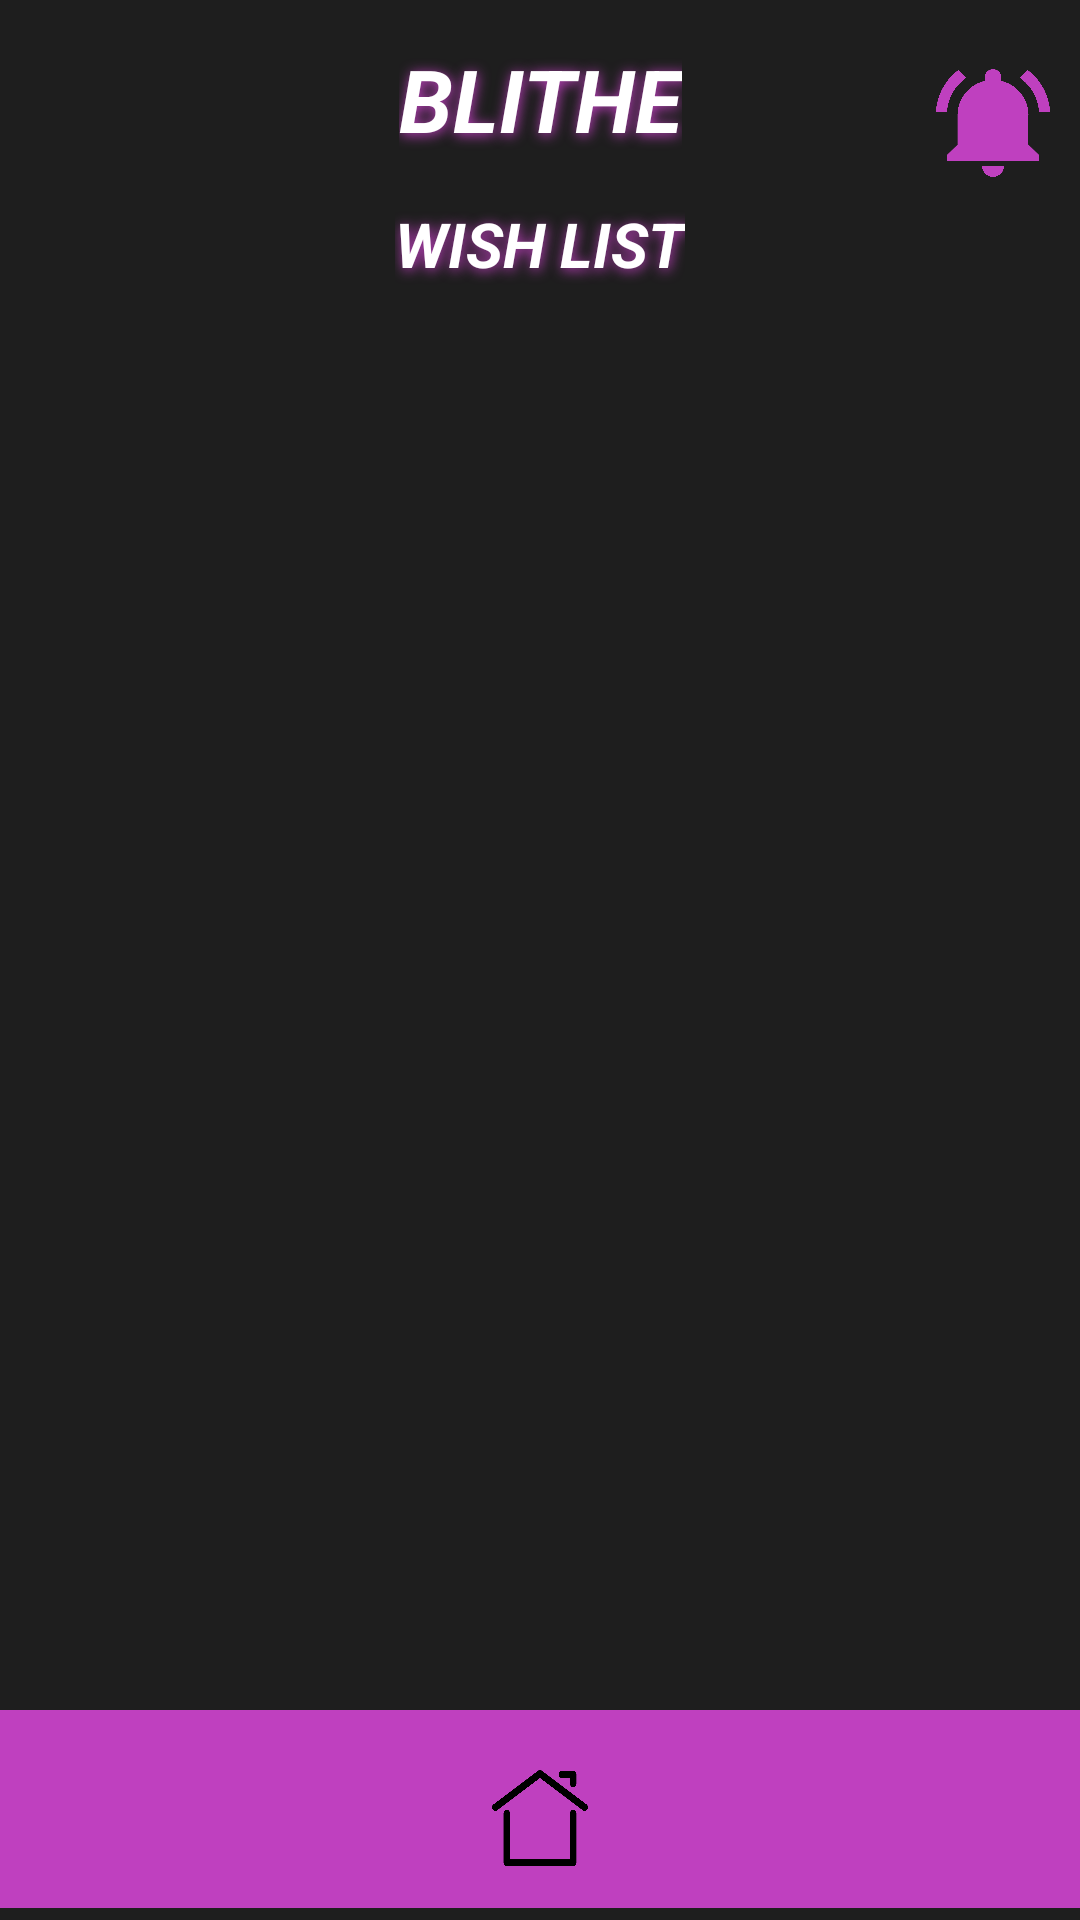

Screen size 1080x1920. Icon name, then its box in pixels as {"left": x1, "top": y1, "right": x2, "bottom": y2}:
home: {"left": 492, "top": 1770, "right": 588, "bottom": 1866}
